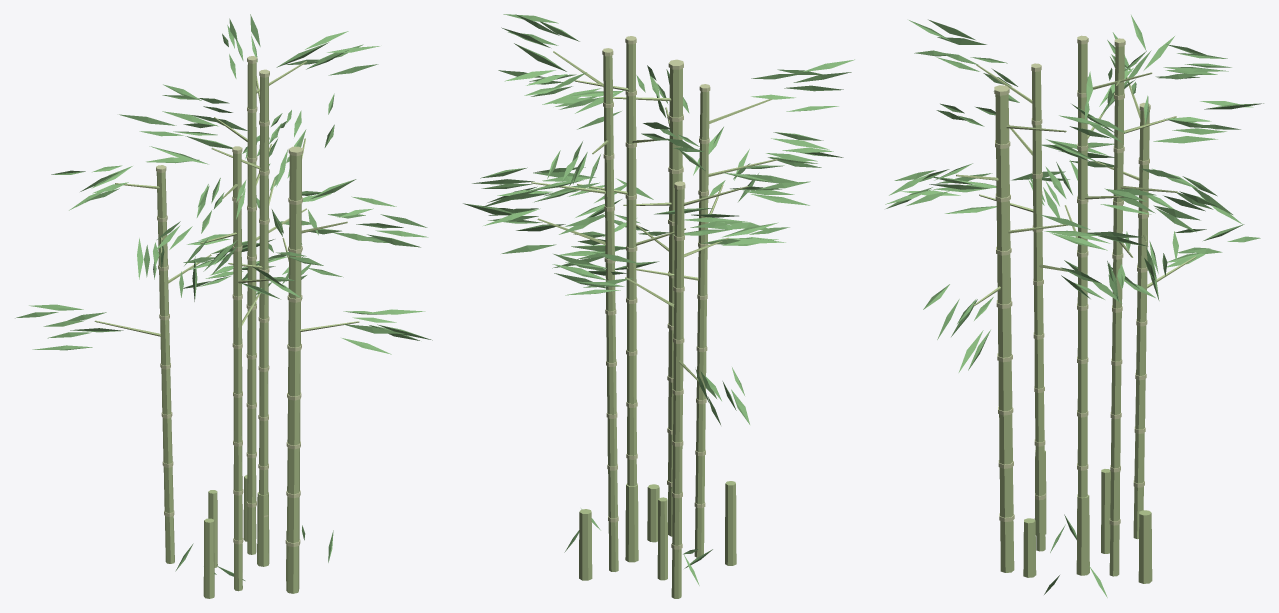
File: plant-bamboo-b_lod1.glb
3 renders of one model, left to right at view 1: azimuth 30°, elevation 25°; view 2: azimuth 150°, elevation 25°; view 3: azimuth 270°, elevation 25°, orthographic. The views are drawn at different scales.
Parts seen in each view (by area): view 1: plant-bamboo-b_full_bambooCulm, plant-bamboo-b_full_bambooLeaf, plant-bamboo-b_full_bambooNode, plant-bamboo-b_cut_bambooCulm; view 2: plant-bamboo-b_full_bambooCulm, plant-bamboo-b_full_bambooLeaf, plant-bamboo-b_cut_bambooCulm, plant-bamboo-b_full_bambooNode; view 3: plant-bamboo-b_full_bambooCulm, plant-bamboo-b_full_bambooLeaf, plant-bamboo-b_cut_bambooCulm, plant-bamboo-b_full_bambooNode.
Part boxes in pixels (left/top/right/bottom): plant-bamboo-b_full_bambooCulm: left=94, top=61, right=359, bottom=593; plant-bamboo-b_full_bambooLeaf: left=15, top=14, right=432, bottom=354; plant-bamboo-b_full_bambooNode: left=156, top=56, right=303, bottom=546; plant-bamboo-b_cut_bambooCulm: left=203, top=475, right=286, bottom=598; plant-bamboo-b_full_bambooCulm: left=531, top=43, right=779, bottom=598; plant-bamboo-b_full_bambooLeaf: left=463, top=14, right=854, bottom=424; plant-bamboo-b_cut_bambooCulm: left=579, top=481, right=736, bottom=580; plant-bamboo-b_full_bambooNode: left=602, top=36, right=710, bottom=549; plant-bamboo-b_full_bambooCulm: left=956, top=43, right=1196, bottom=576; plant-bamboo-b_full_bambooLeaf: left=885, top=15, right=1263, bottom=372; plant-bamboo-b_cut_bambooCulm: left=1023, top=450, right=1152, bottom=583; plant-bamboo-b_full_bambooNode: left=994, top=35, right=1150, bottom=525.
Bounding box in the file's own units: 3.75 × 5.61 × 3.55.
